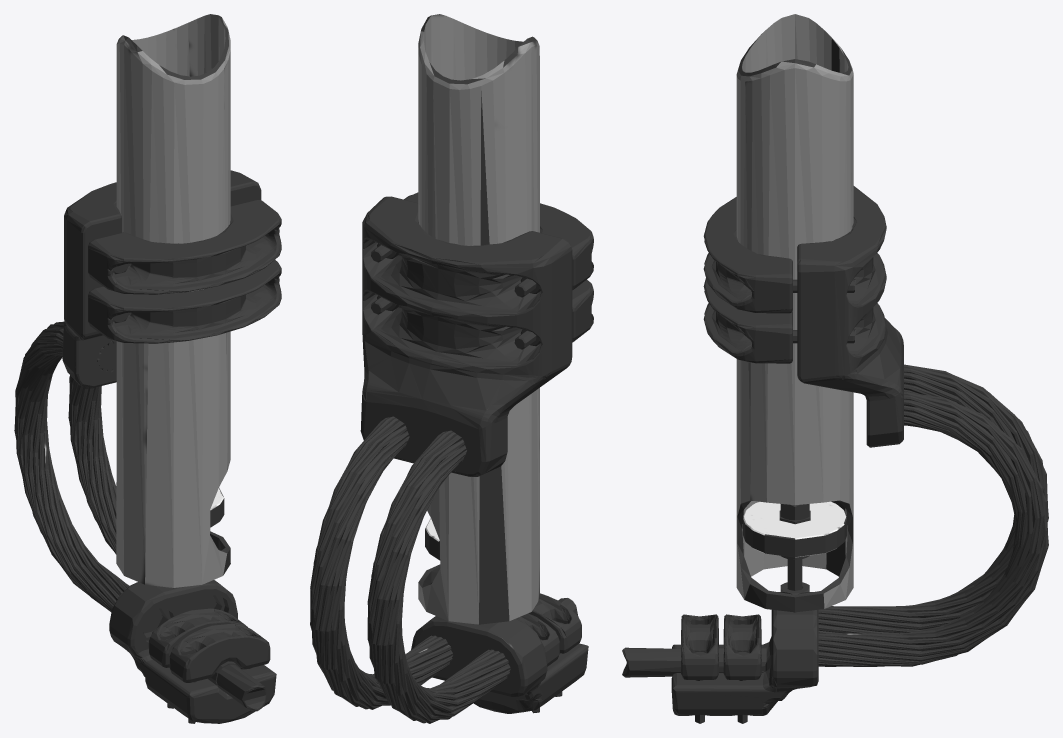
The model's file is flexible_90_tubo_pin6.gltf.
3 views of the same model, side by side, from view 1: azimuth 30°, elevation 25°; view 2: azimuth 150°, elevation 25°; view 3: azimuth 270°, elevation 25° (orthographic). The views are drawn at different scales.
Parts seen in each view (by area): view 1: Gt7Sj3Sa; view 2: Gt7Sj3Sa; view 3: Gt7Sj3Sa.
Boxes of the visible parts, left/top/right/bottom form: Gt7Sj3Sa: left=14, top=14, right=281, bottom=723; Gt7Sj3Sa: left=310, top=14, right=593, bottom=723; Gt7Sj3Sa: left=622, top=14, right=1048, bottom=723.
Bounding box in the file's own units: 0.5506 × 1.92 × 1.11.
Materials: 1 (1 with a texture image).
